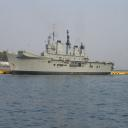Portanaves: (6, 24, 119, 77)
